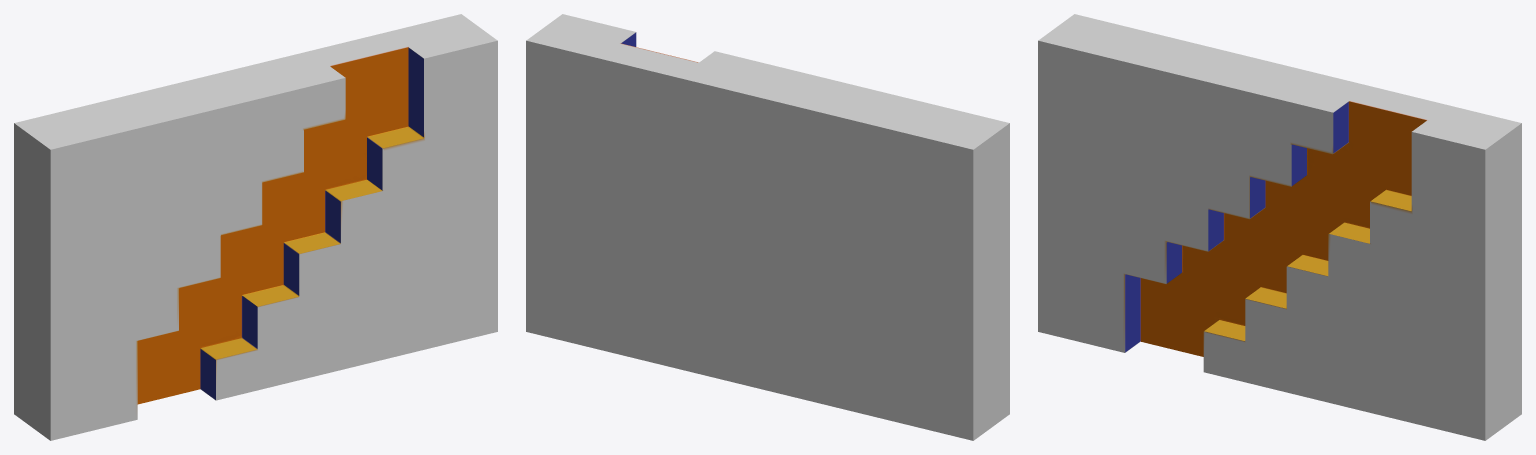
File: GEO_Stock_07_LOD1.glb
The picture shows the model from 3 angles, left to right: view 1: azimuth 30°, elevation 25°; view 2: azimuth 150°, elevation 25°; view 3: azimuth 330°, elevation 25°; orthographic projection.
Parts seen in each view (by area): view 1: Box; view 2: Box; view 3: Box.
Part boxes in pixels (left/top/right/bottom): Box: left=14, top=14, right=497, bottom=440; Box: left=526, top=14, right=1009, bottom=440; Box: left=1038, top=14, right=1521, bottom=440.
Size of the model in its own units: 1.61 by 1 by 0.2268.
